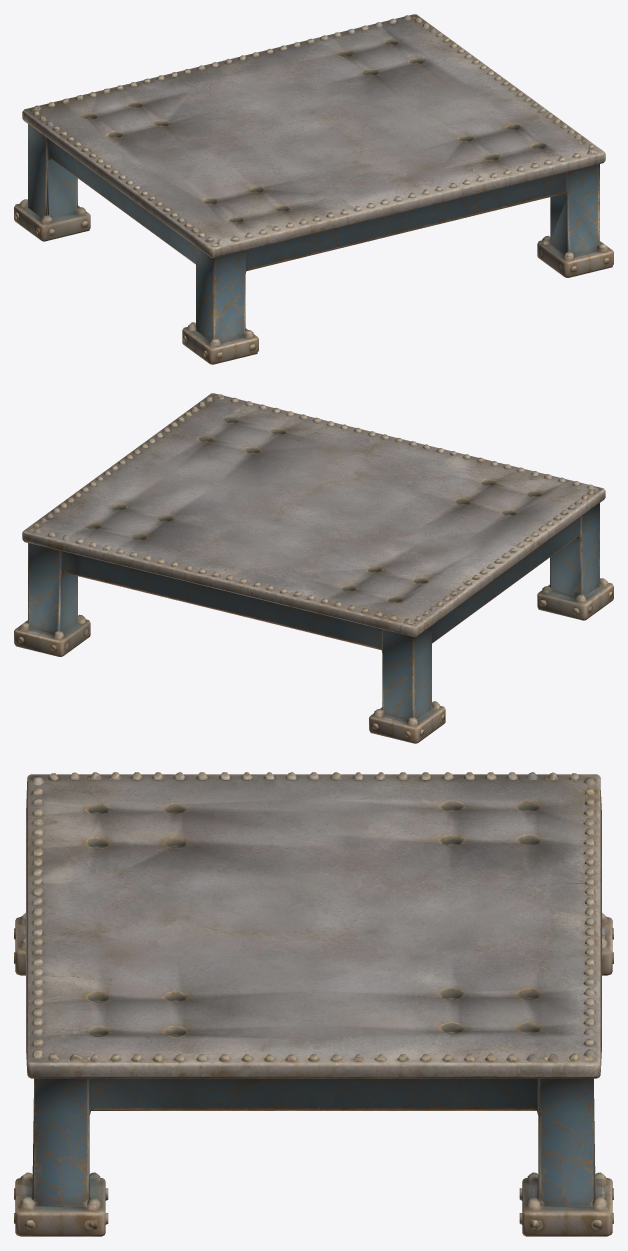
File: SM_Metal_Platform.fbx
3 renders of one model, top to bottom at view 1: azimuth 30°, elevation 25°; view 2: azimuth 150°, elevation 25°; view 3: azimuth 270°, elevation 25°, orthographic. The views are drawn at different scales.
Parts seen in each view (by area): view 1: SM_Metal_Platform; view 2: SM_Metal_Platform; view 3: SM_Metal_Platform.
Boxes of the visible parts, <box> form: SM_Metal_Platform: <box>14,14,613,364</box>; SM_Metal_Platform: <box>14,393,613,743</box>; SM_Metal_Platform: <box>14,772,613,1236</box>.
Size of the model in its own units: 1.32 by 0.3582 by 1.12.
Materials: 1 (1 with a texture image).
